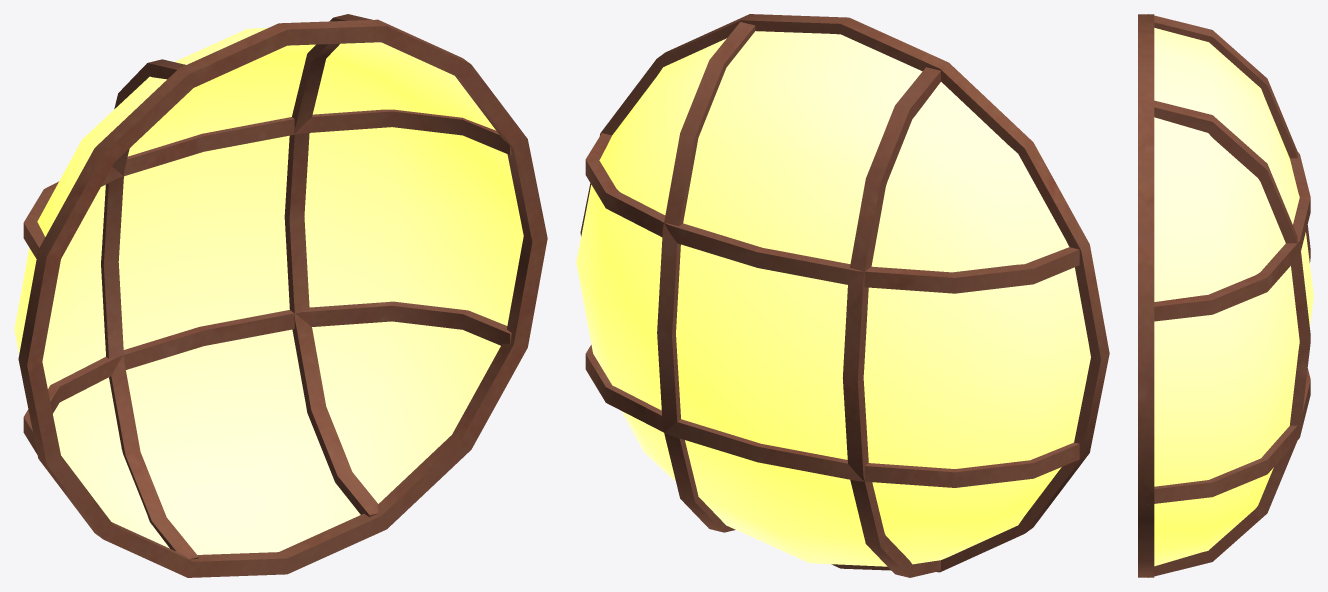
File: Marine_WallMounted_Circular_Thin.fbx
3 views of the same model, side by side, from view 1: azimuth 30°, elevation 25°; view 2: azimuth 150°, elevation 25°; view 3: azimuth 270°, elevation 25° (orthographic). The views are drawn at different scales.
Visible parts, largest first — view 1: Marine_WallMounted_Circular_Thin; view 2: Marine_WallMounted_Circular_Thin; view 3: Marine_WallMounted_Circular_Thin.
Boxes of the visible parts, x1,y1,x2,y2 form: Marine_WallMounted_Circular_Thin: [14, 14, 547, 577]; Marine_WallMounted_Circular_Thin: [576, 14, 1109, 577]; Marine_WallMounted_Circular_Thin: [1138, 14, 1313, 577].
Size of the model in its own units: 45.09 by 45.09 by 14.04.
2 materials, 1 textured.
